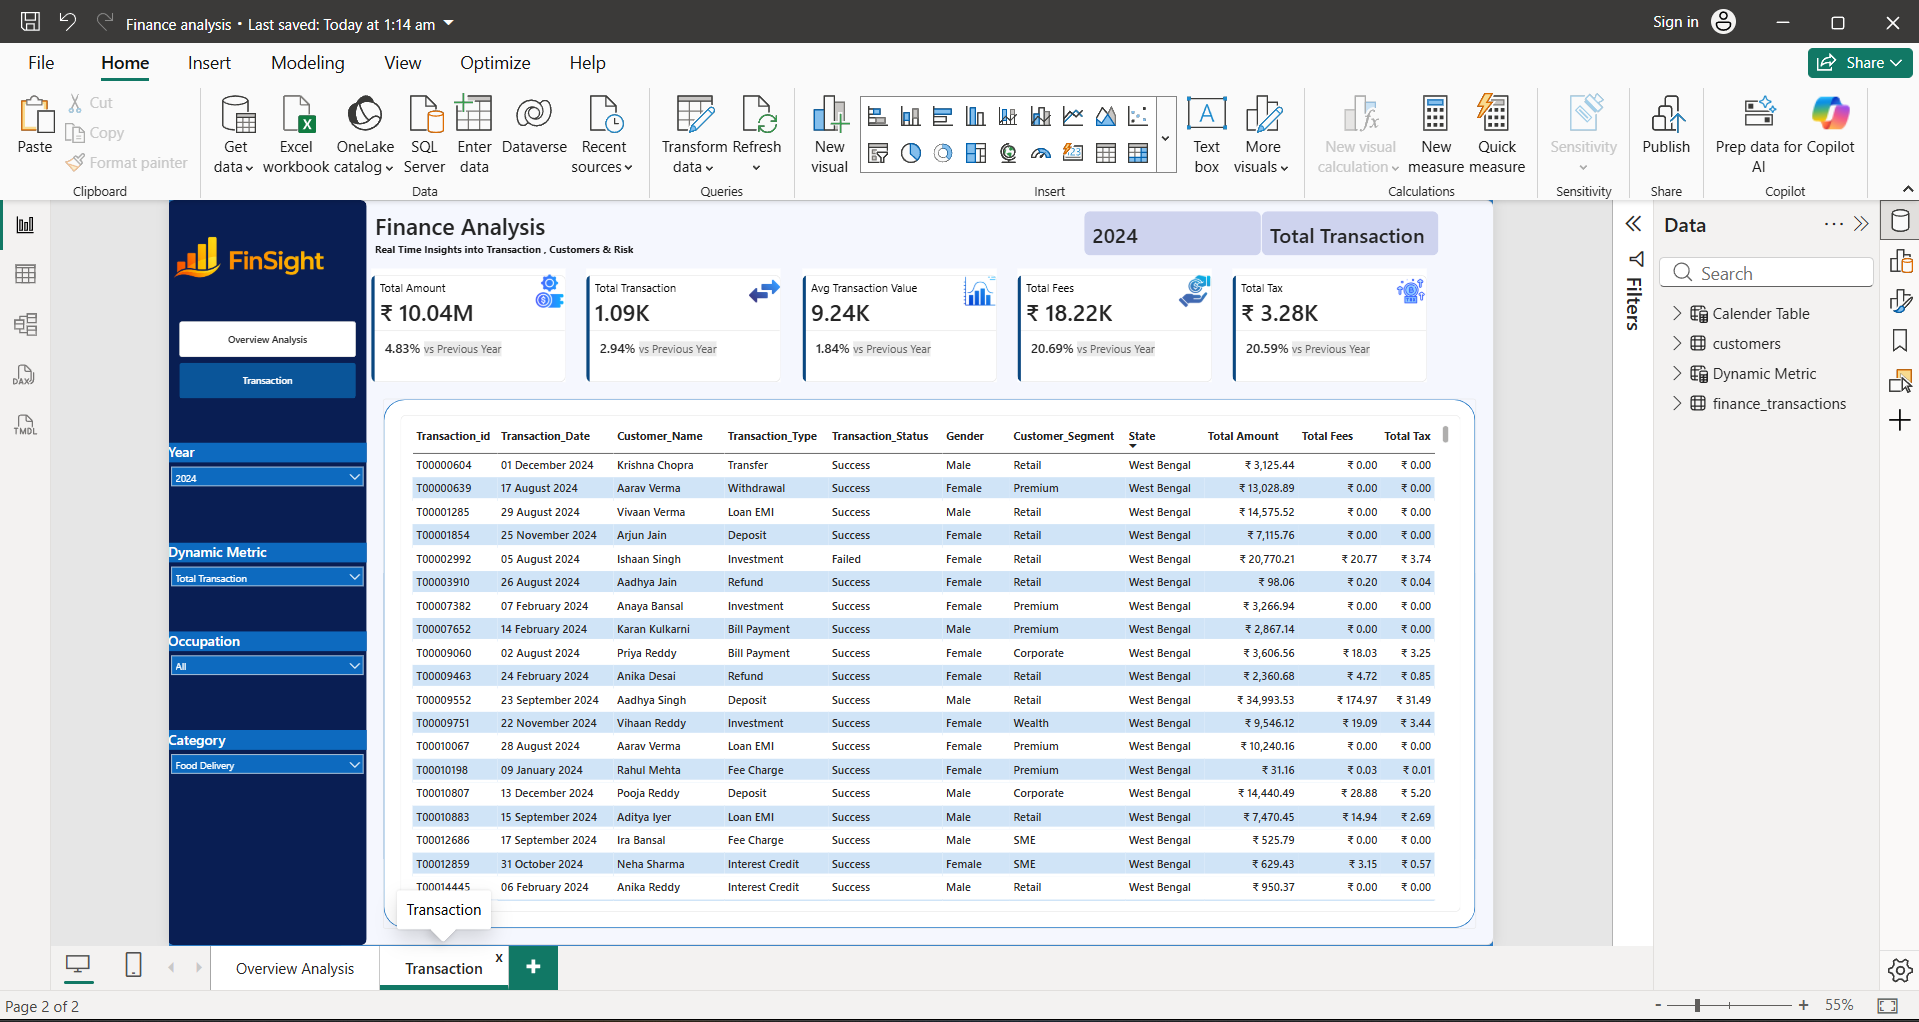

What the dashboard file says about the page in this screenshot:
{"tool":"powerbi","page":{"name":"Transaction","canvas":[1920,1080],"ordinal":1},"visuals":[{"type":"shape","box":[896,272,480,336],"z":0},{"type":"shape","box":[888,288,480,312],"z":1000},{"type":"shape","box":[240,0,1680,1080],"z":2000},{"type":"shape","box":[0,0,288,1080],"z":3000},{"type":"image","box":[0,24,240,120],"z":4000},{"type":"cardVisual","fields":{"Data":["finance_transactions.Total Amount"]},"box":[288,96,288,168],"z":4000,"group":"g1"},{"type":"cardVisual","fields":{"Data":["finance_transactions.Dashboard Title"]},"box":[288,0,432,96],"z":5000},{"type":"cardVisual","fields":{"Data":["finance_transactions.Total Transaction"]},"box":[600,96,288,168],"z":6000,"group":"g1"},{"type":"slicer","title":"Year","fields":{"Values":["Calender Table.Year"]},"box":[0,312,288,96],"z":6000},{"type":"group","id":"g1","title":"Group 1","box":[288,96,1536,168],"z":7000},{"type":"cardVisual","fields":{"Data":["finance_transactions.Avg Transaction Value"]},"box":[912,96,288,168],"z":7000,"group":"g1"},{"type":"cardVisual","fields":{"Data":["finance_transactions.Total Fees"]},"box":[1224,96,288,168],"z":8000,"group":"g1"},{"type":"slicer","title":"Dynamic Metric","fields":{"Values":["Dynamic Metric.Dynamic Metric"]},"box":[0,456,288,96],"z":8000},{"type":"cardVisual","fields":{"Data":["finance_transactions.Total Tax"]},"box":[1536,96,288,168],"z":9000,"group":"g1"},{"type":"shape","box":[312,288,1584,768],"z":9000},{"type":"cardVisual","fields":{"Data":["finance_transactions.Selected Dynamic Measure"]},"box":[1584,16,256,64],"z":10000},{"type":"image","box":[528,96,48,72],"z":10000,"group":"g1"},{"type":"cardVisual","fields":{"Data":["finance_transactions.Selected Year"]},"box":[1328,16,256,64],"z":11000},{"type":"image","box":[840,96,48,72],"z":11000,"group":"g1"},{"type":"image","box":[1464,96,48,72],"z":12000,"group":"g1"},{"type":"tableEx","fields":{"Values":["finance_transactions.transaction_id","finance_transactions.transaction_date","customers.Customer_name","finance_transactions.transaction_type","finance_transactions.transaction_status","customers.gender","customers.Customer_segment","customers.state","finance_transactions.Total Amount","finance_transactions.Total Fees","finance_transactions.Total Tax"]},"box":[336,312,1536,720],"z":12000},{"type":"image","box":[1152,96,48,72],"z":13000,"group":"g1"},{"type":"slicer","title":"Occupation","fields":{"Values":["customers.occupation"]},"box":[0,576,288,96],"z":13000},{"type":"image","box":[1776,96,48,72],"z":14000,"group":"g1"},{"type":"slicer","title":"Category","fields":{"Values":["finance_transactions.merchant_category"]},"box":[0,696,288,96],"z":14000}]}

Visuals, with their boxes on the page's 1920x1080 design canvas (x1, y1, x2, y2). These are canvas units, not pixel positions in the 1919x1022 screenshot, which may show the page scaled, cropped or inside an application window:
shape: [896, 272, 1376, 608]
shape: [888, 288, 1368, 600]
shape: [240, 0, 1920, 1080]
shape: [0, 0, 288, 1080]
image: [0, 24, 240, 144]
cardVisual - finance_transactions.Total Amount: [288, 96, 576, 264]
cardVisual - finance_transactions.Dashboard Title: [288, 0, 720, 96]
cardVisual - finance_transactions.Total Transaction: [600, 96, 888, 264]
"Year" slicer: [0, 312, 288, 408]
"Group 1" group: [288, 96, 1824, 264]
cardVisual - finance_transactions.Avg Transaction Value: [912, 96, 1200, 264]
cardVisual - finance_transactions.Total Fees: [1224, 96, 1512, 264]
"Dynamic Metric" slicer: [0, 456, 288, 552]
cardVisual - finance_transactions.Total Tax: [1536, 96, 1824, 264]
shape: [312, 288, 1896, 1056]
cardVisual - finance_transactions.Selected Dynamic Measure: [1584, 16, 1840, 80]
image: [528, 96, 576, 168]
cardVisual - finance_transactions.Selected Year: [1328, 16, 1584, 80]
image: [840, 96, 888, 168]
image: [1464, 96, 1512, 168]
tableEx - finance_transactions.transaction_id x finance_transactions.transaction_date: [336, 312, 1872, 1032]
image: [1152, 96, 1200, 168]
"Occupation" slicer: [0, 576, 288, 672]
image: [1776, 96, 1824, 168]
"Category" slicer: [0, 696, 288, 792]
